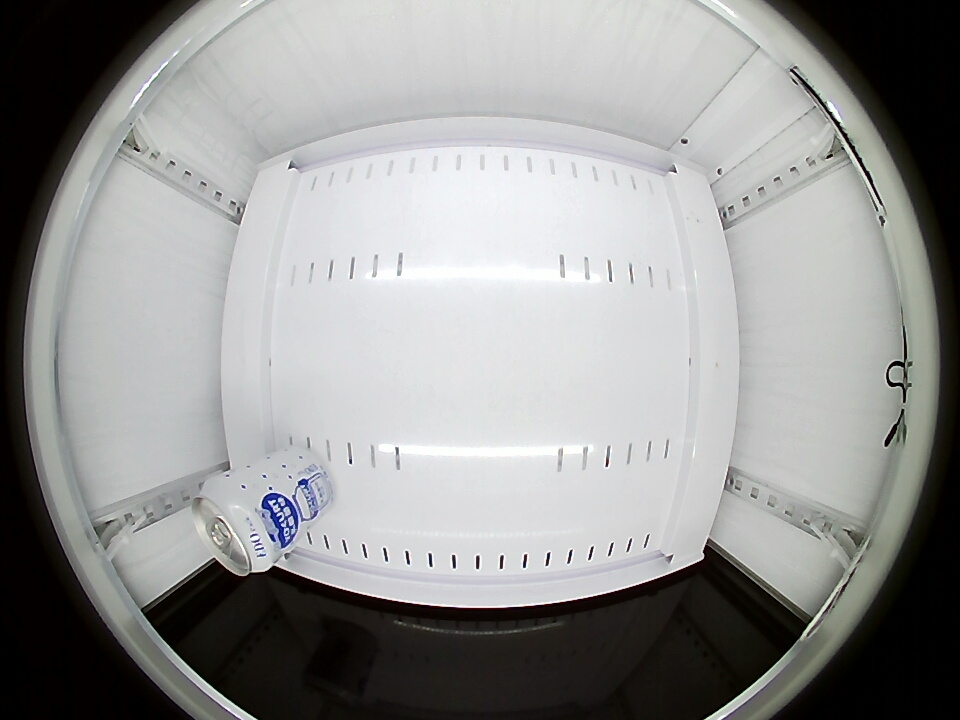rusuanjunqishui: (191, 476, 287, 576)
